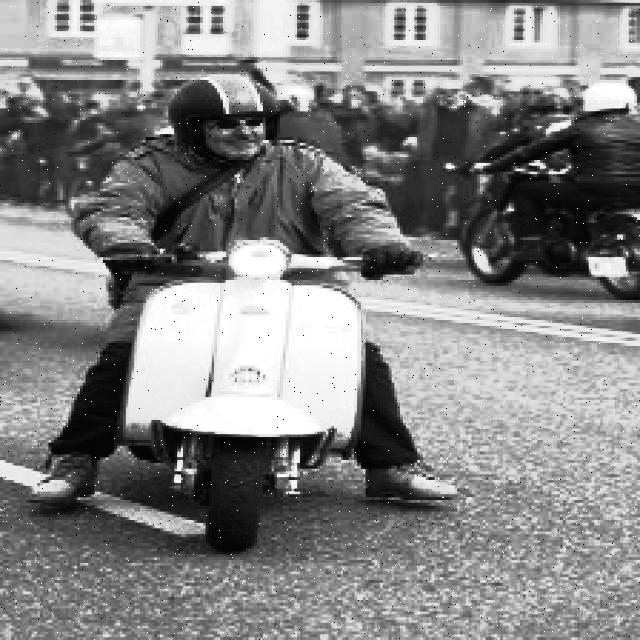Bike: (110, 251, 372, 549), (457, 160, 637, 300)
